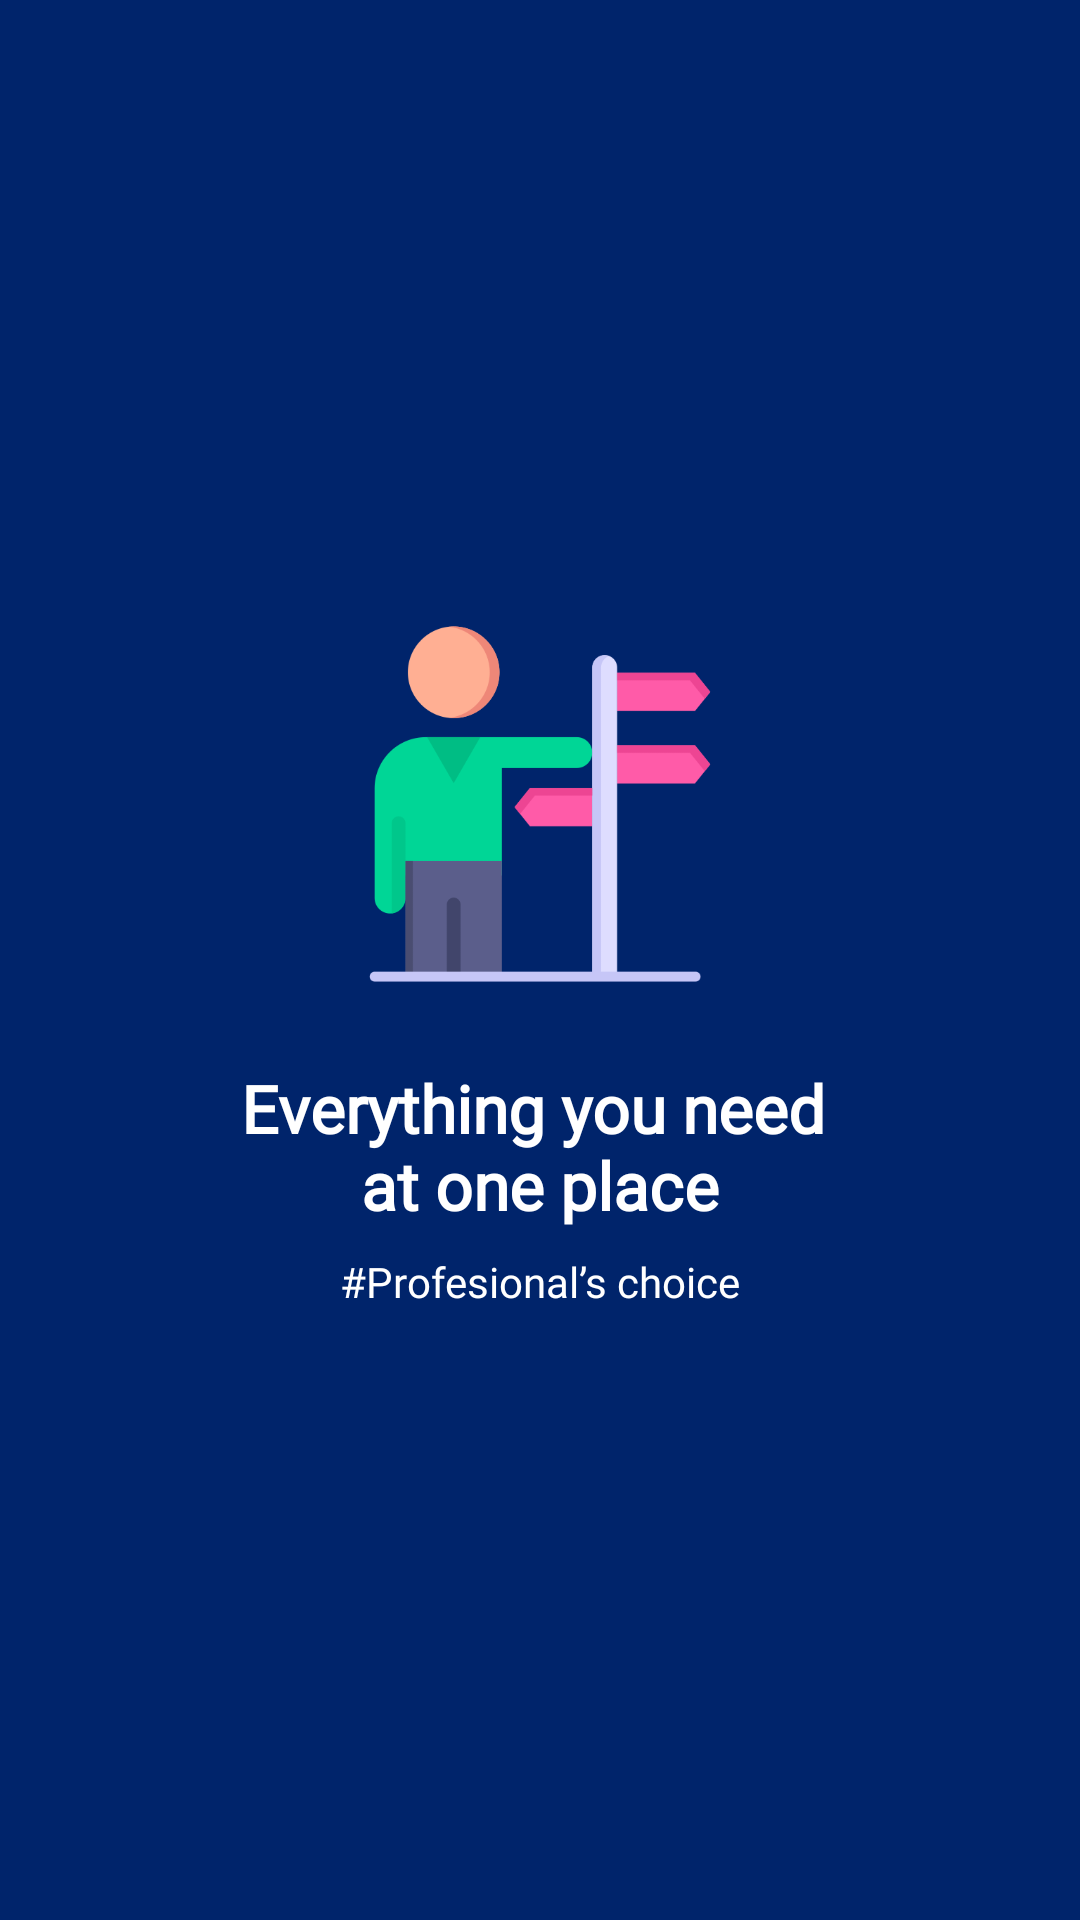

Named icons in this screenshot (1080px x 1920px) and their bounding boxes, (x1, y1, x2, y2):
guidence: (369, 626, 710, 982)
